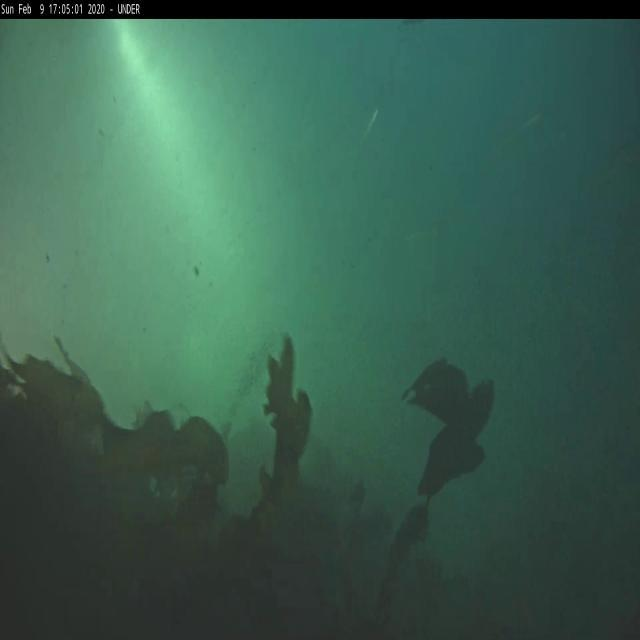fish: (360, 107, 380, 147)
